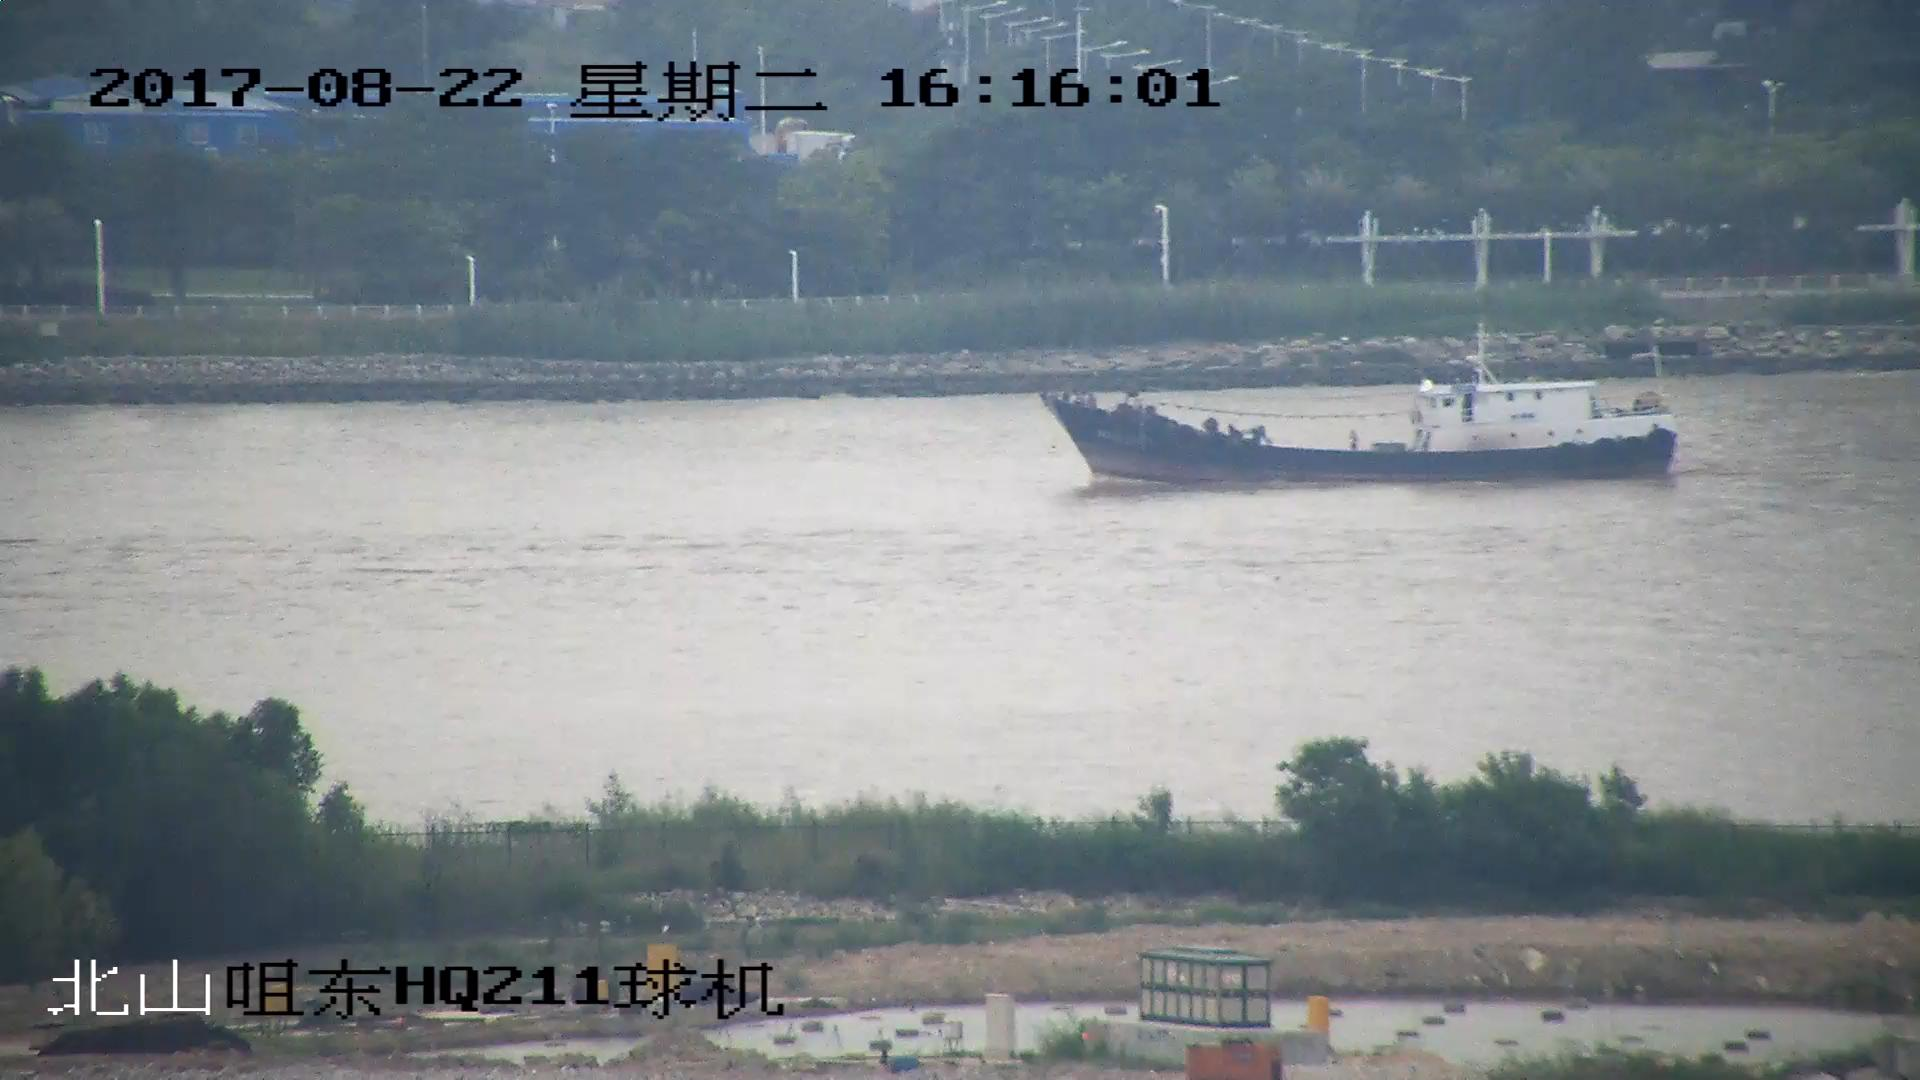fishing boat: (1042, 331, 1675, 486)
